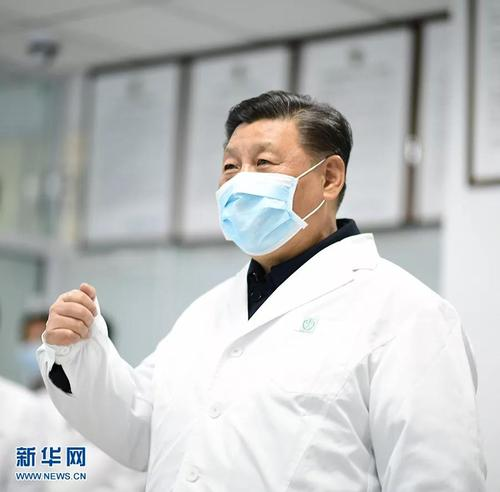Mask: (213, 123, 322, 258)
